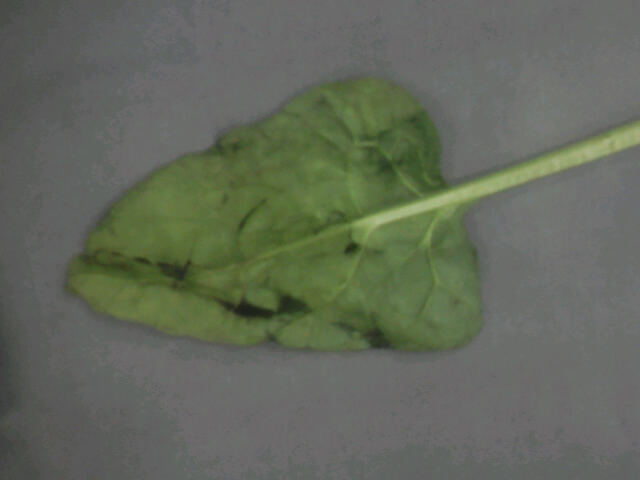yellow: (49, 64, 582, 382)
